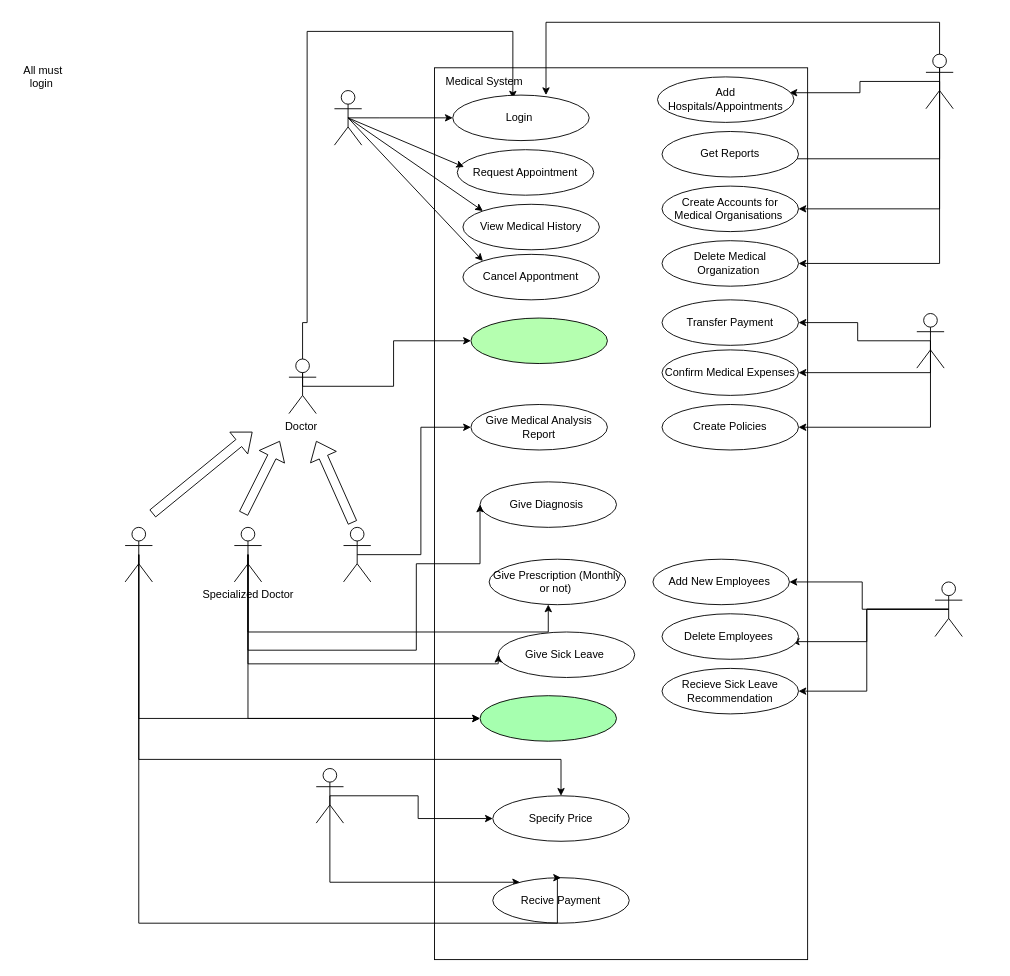
Image size: 1010x976. Some labels were removed from this diagram. The centre of each missing label's shape, as x and y in pixels:
Analysis Doctor: (x=357, y=554)
Employee: (x=348, y=117)
Finance: (x=930, y=340)
Hospital/Clnic/Labs/Pharmacy: (x=329, y=795)
HR: (x=948, y=609)
Medical/Bank Mediator: (x=939, y=81)
Private Doctor: (x=138, y=554)
Vierw Patient Medical History: (x=538, y=340)
View Medical Analysis Reports: (x=548, y=718)
